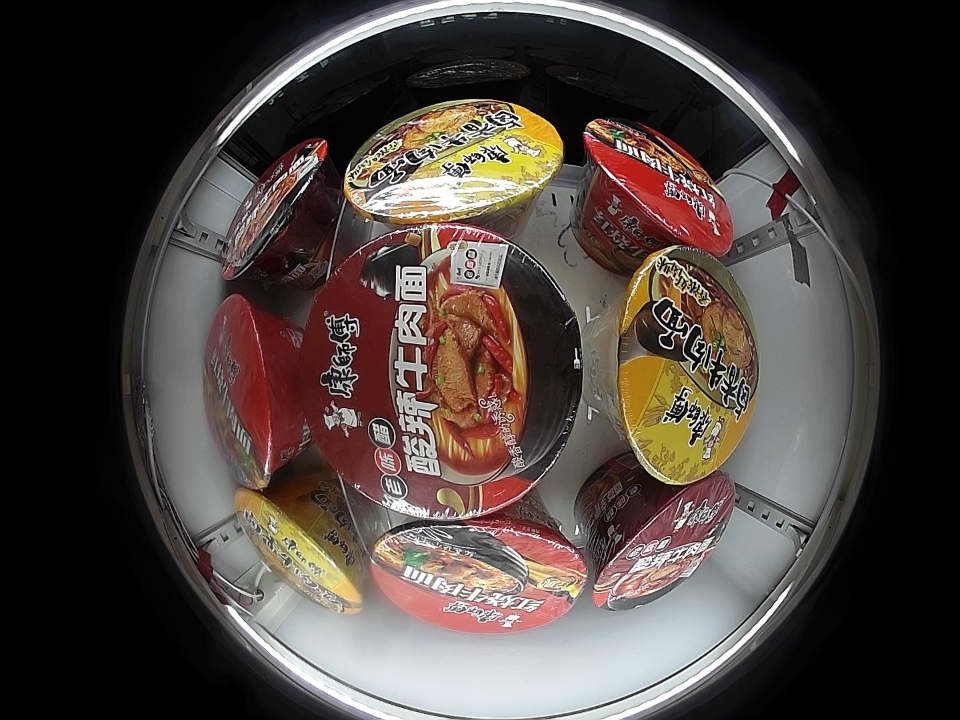hongshaoniurou: (368, 516, 589, 634), (582, 118, 732, 252), (206, 293, 298, 487)
luxiangniurou: (610, 245, 758, 486), (342, 99, 564, 226), (234, 484, 365, 616)
suanlaniurou: (299, 226, 586, 520), (590, 477, 736, 611), (219, 136, 333, 282)
